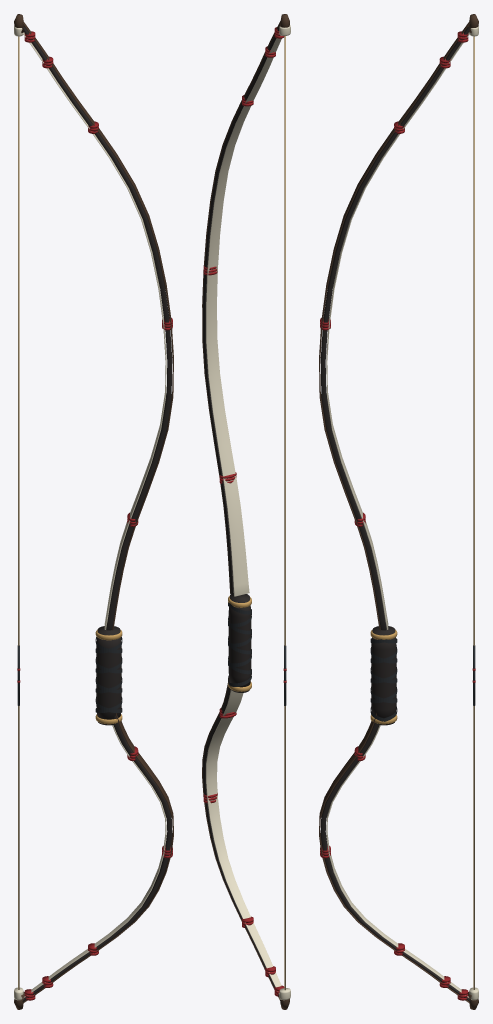
Rendered from weapon_japan_shigeto_lod1.glb.
The picture shows the model from 3 angles, left to right: view 1: azimuth 90°, elevation 25°; view 2: azimuth 210°, elevation 25°; view 3: azimuth 270°, elevation 25°; orthographic projection.
Visible parts, largest first — view 1: Authored_japan_shigeto.001; view 2: Authored_japan_shigeto.001; view 3: Authored_japan_shigeto.001.
Part boxes in pixels (x1=…): Authored_japan_shigeto.001: x1=14, y1=14, x2=173, y2=1009; Authored_japan_shigeto.001: x1=202, y1=14, x2=290, y2=1009; Authored_japan_shigeto.001: x1=319, y1=14, x2=478, y2=1009.
Bounding box in the file's own units: 0.038 × 1.82 × 0.2659.
